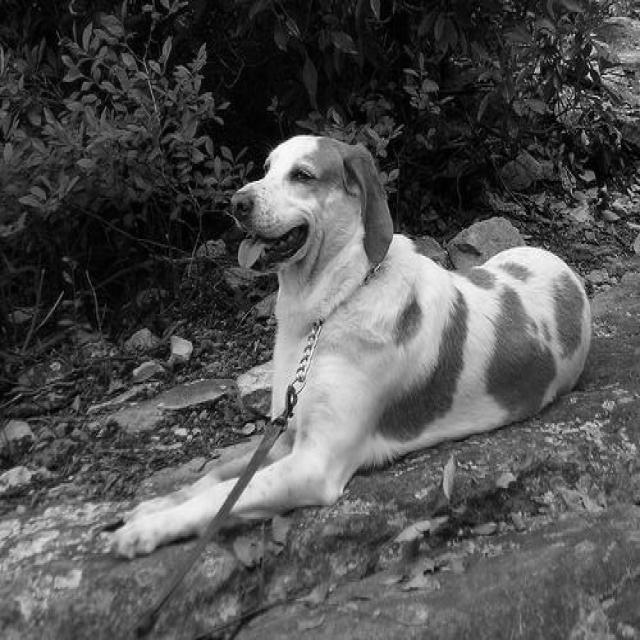laying down: (83, 128, 598, 563)
